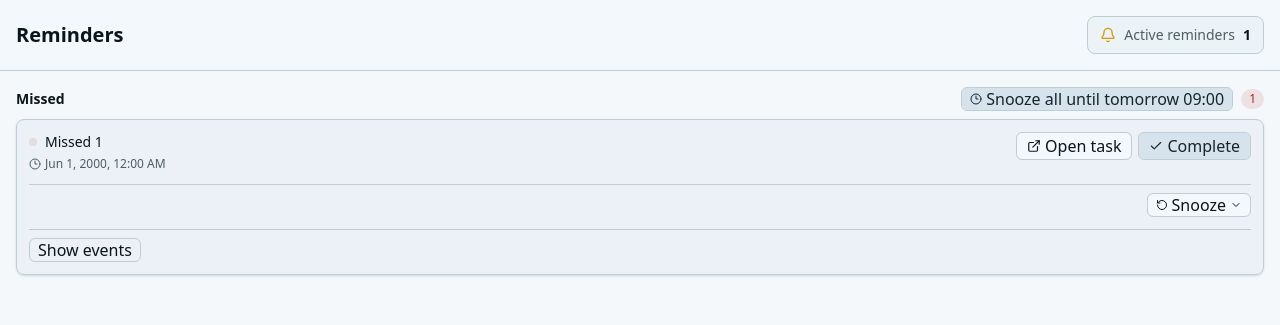
Test: ReminderCenterView › shows the error toast when snoozing all missed reminders fails entirely
Click the button "Snooze all until tomorrow 09:00" at (1097, 99), box [961,87,1233,111]
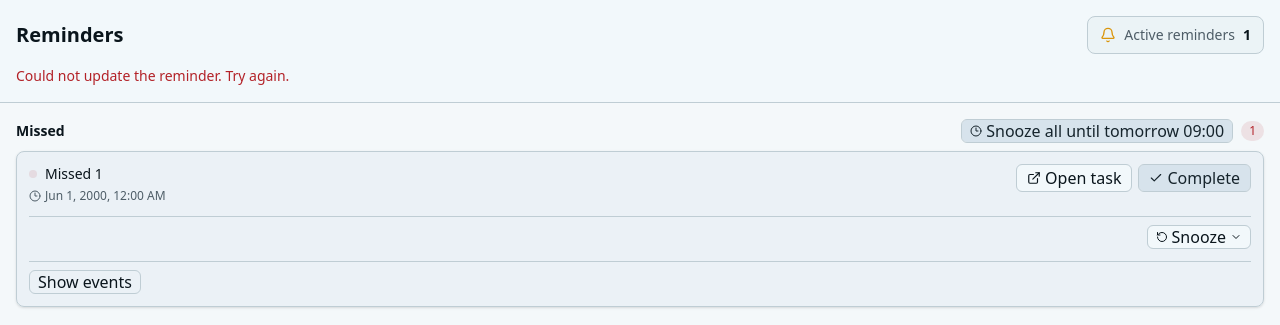
Check: the text "Could not update the reminder. Try again." is shown, box [16,66,289,85]
